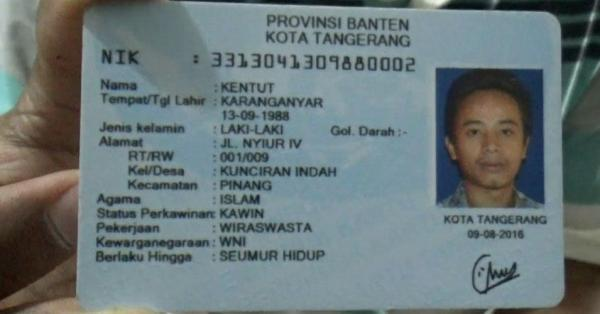ID-card: (83, 0, 557, 306)
